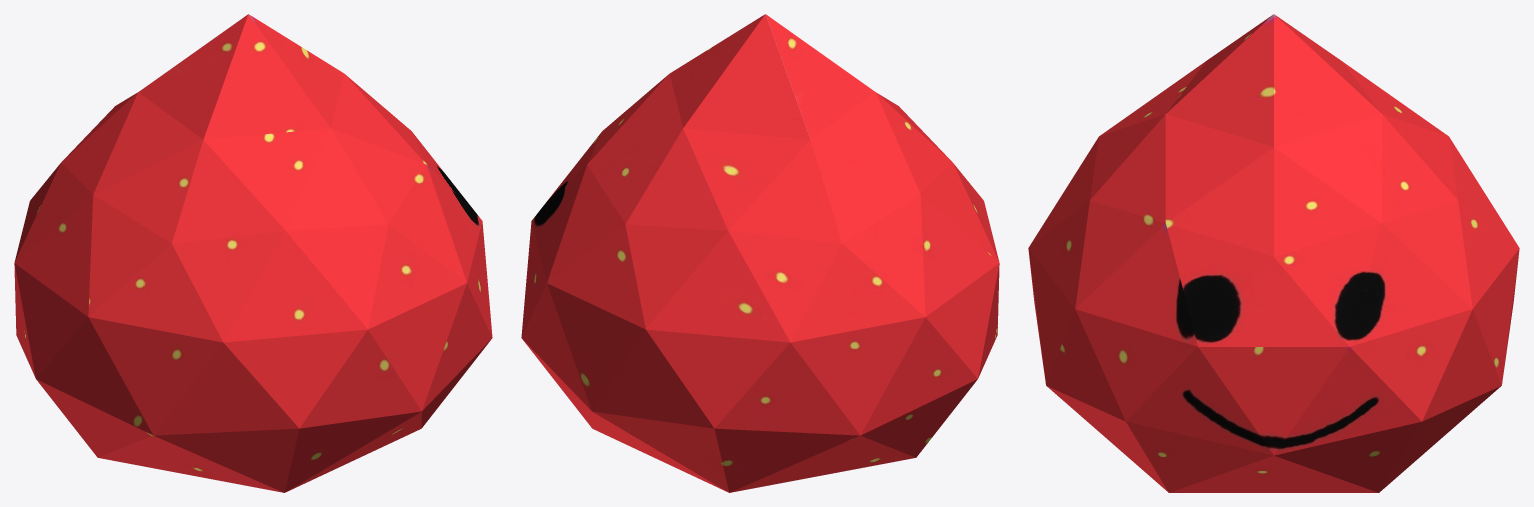
File: BerrySlime.fbx
3 views of the same model, side by side, from view 1: azimuth 30°, elevation 25°; view 2: azimuth 150°, elevation 25°; view 3: azimuth 270°, elevation 25° (orthographic). The views are drawn at different scales.
Visible parts, largest first — view 1: Icosphere; view 2: Icosphere; view 3: Icosphere.
Part boxes in pixels (x1=…): Icosphere: x1=14, y1=14, x2=492, y2=492; Icosphere: x1=521, y1=14, x2=999, y2=492; Icosphere: x1=1028, y1=14, x2=1519, y2=492.
Bounding box in the file's own units: 213 × 221 × 213.
